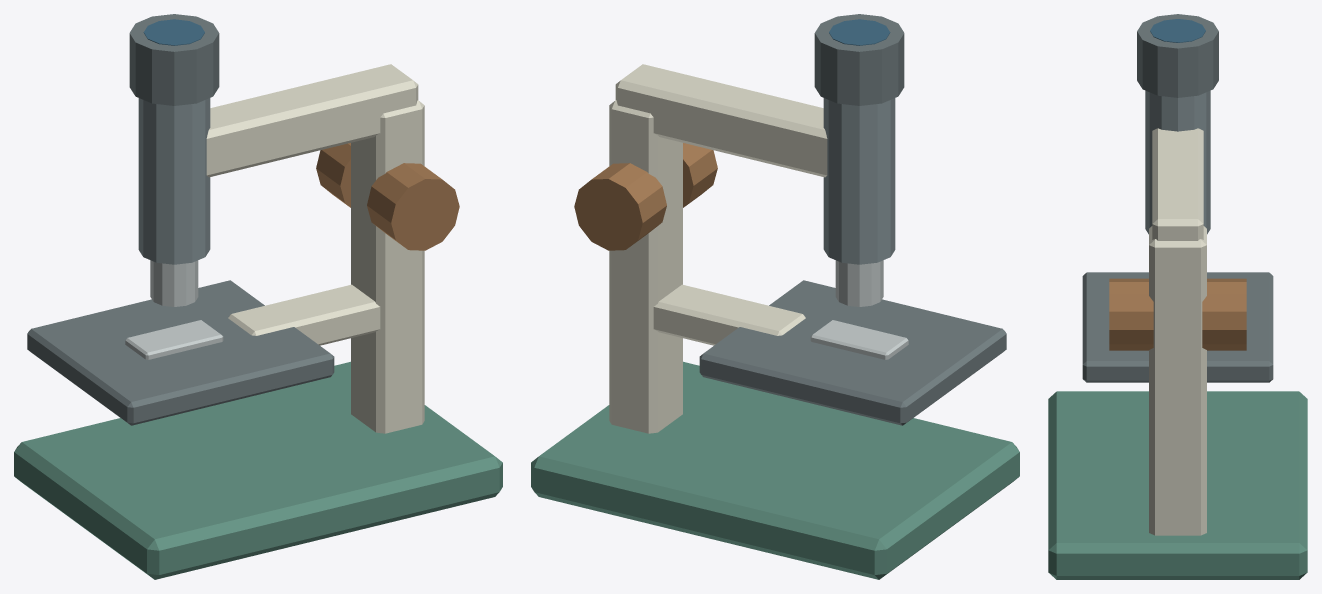
The picture shows the model from 3 angles, left to right: view 1: azimuth 30°, elevation 25°; view 2: azimuth 150°, elevation 25°; view 3: azimuth 270°, elevation 25°; orthographic projection. The views are drawn at different scales.
Visible parts, largest first — view 1: laboratory-microscope-01; view 2: laboratory-microscope-01; view 3: laboratory-microscope-01.
Boxes of the visible parts, bbox=[...] form: laboratory-microscope-01: bbox=[14, 14, 502, 579]; laboratory-microscope-01: bbox=[531, 14, 1019, 579]; laboratory-microscope-01: bbox=[1048, 14, 1307, 579].
Bounding box in the file's own units: 0.555 × 0.706 × 0.38.
